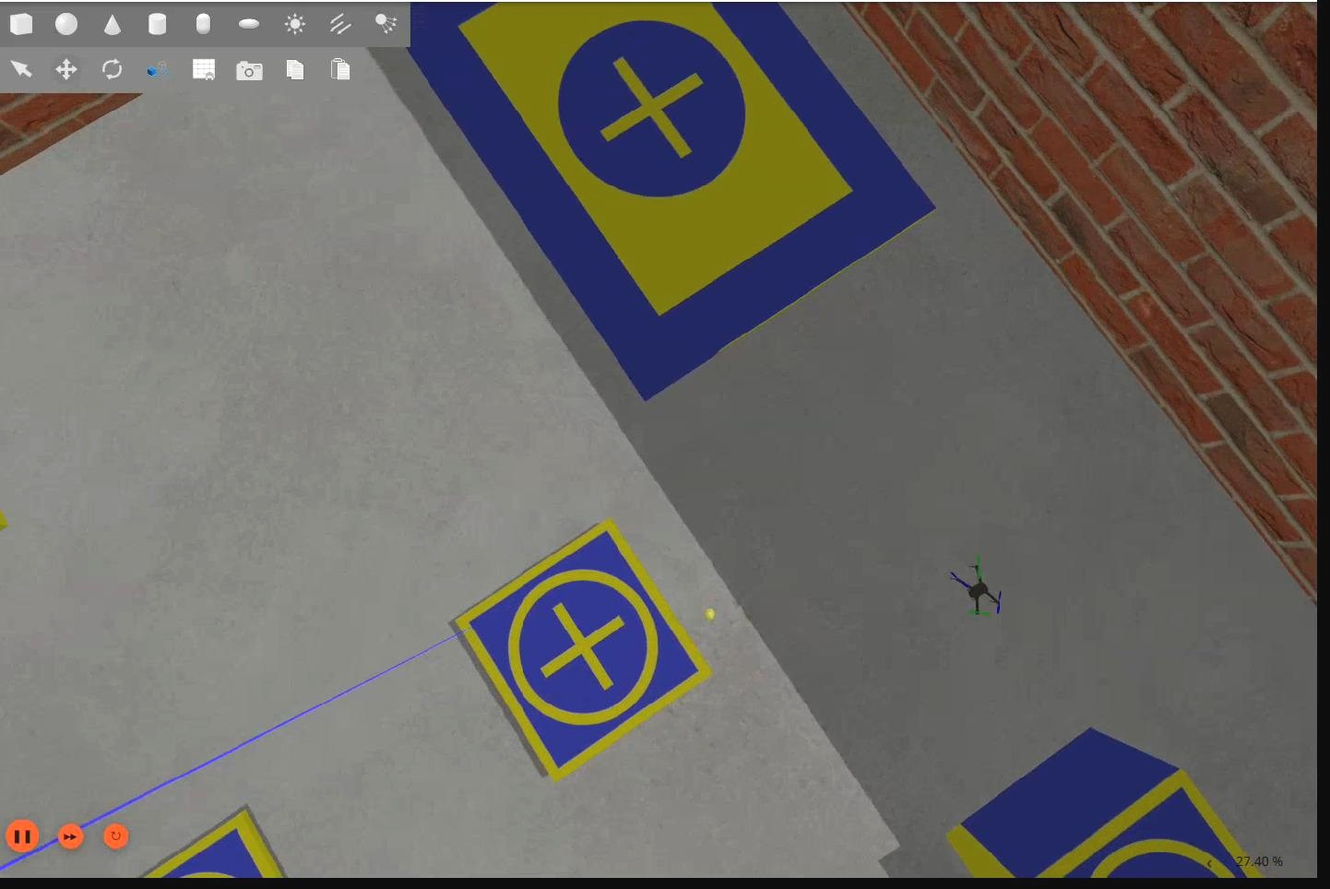large_base: (409, 2, 938, 402)
small_base: (451, 516, 715, 784), (1033, 768, 1264, 883)
